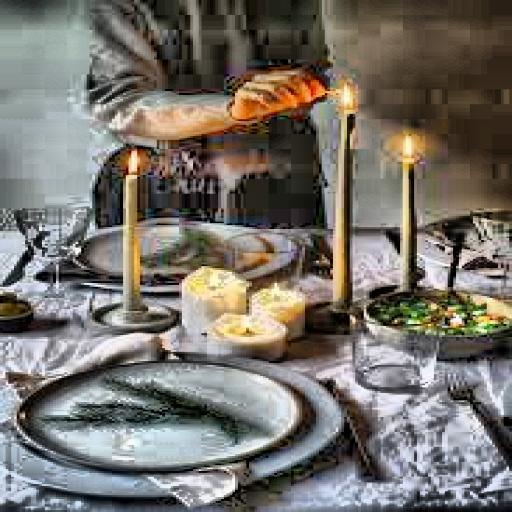fire: (330, 78, 361, 110), (115, 145, 148, 173), (395, 128, 414, 156)
